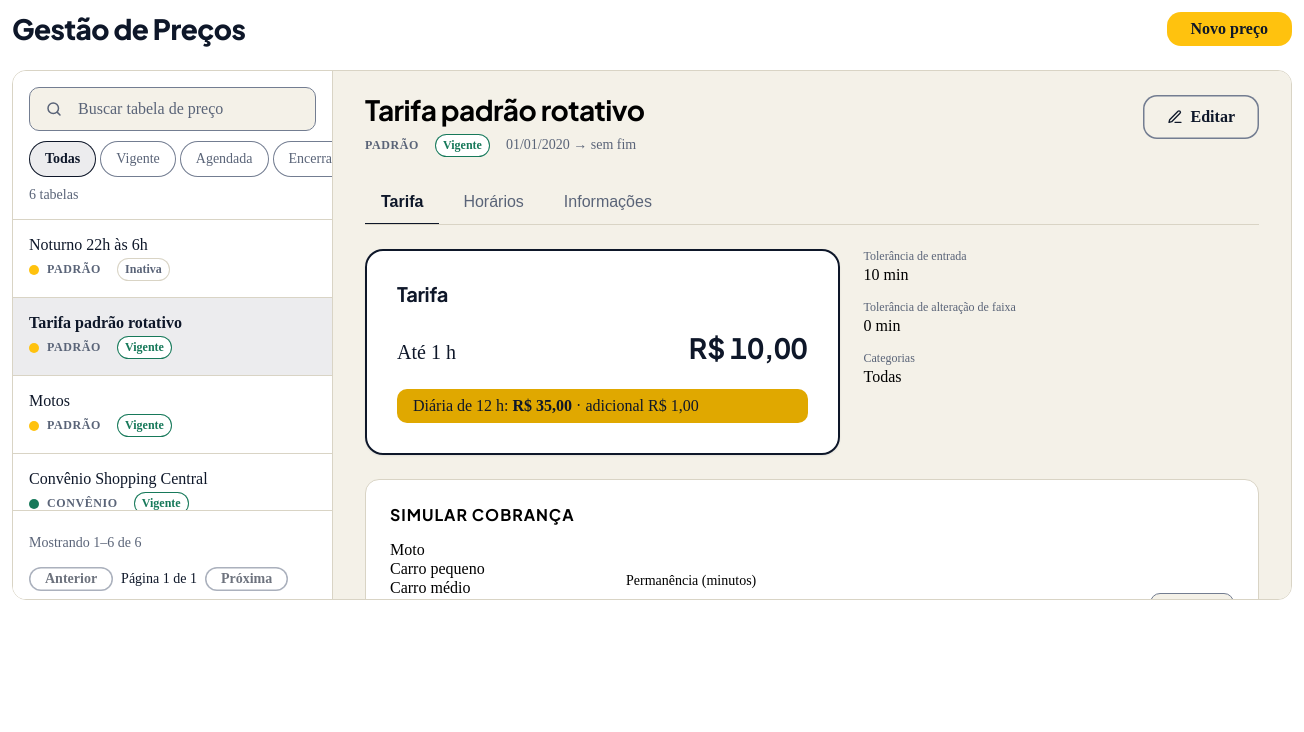
Test case: PrecosMasterDetail: busca e filtro › a busca reduz a lista e a contagem acompanha
Check: the list named "Tabelas de preço" is shown, box [13,220,332,510]
Check: the text "6 tabelas" is shown, box [29,187,78,202]
Step 1. Type "tarifa" into the search field labelled "Buscar tabela de preço" → (172, 109), box [29,87,316,131]
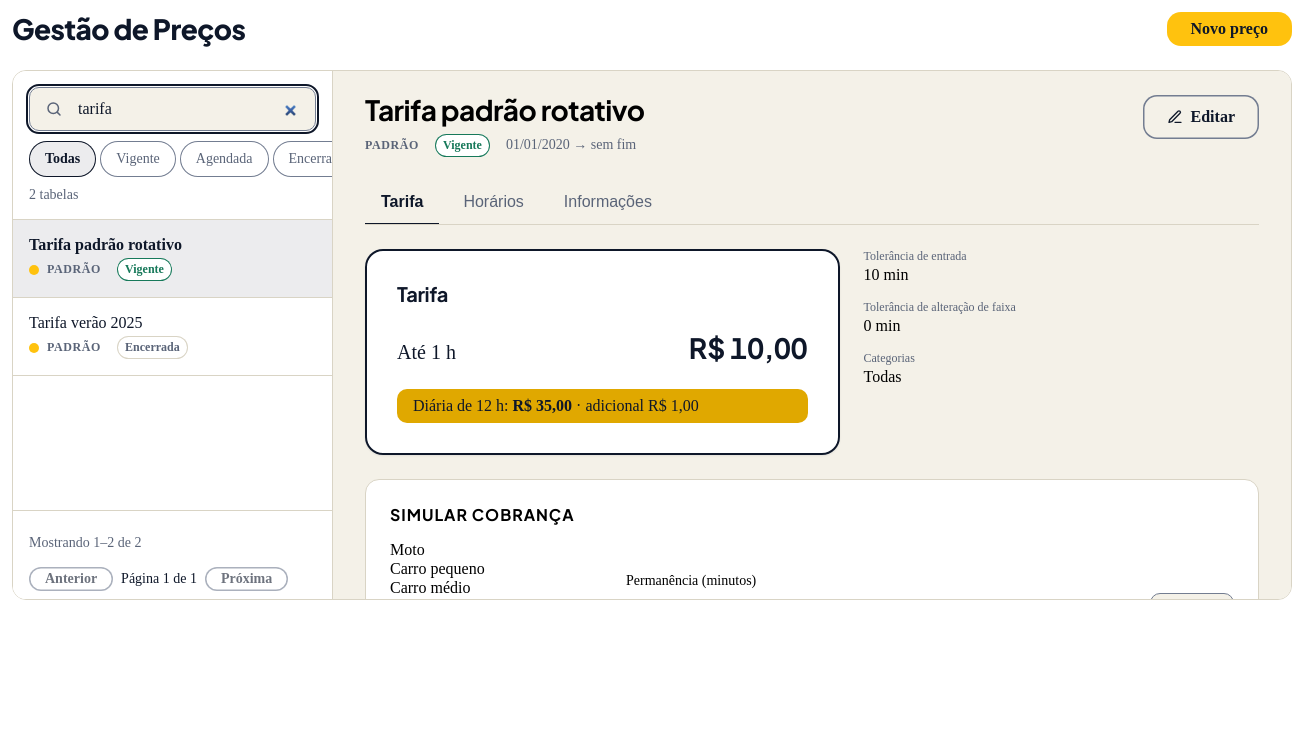
Check: the text "2 tabelas" is shown, box [29,187,78,202]
